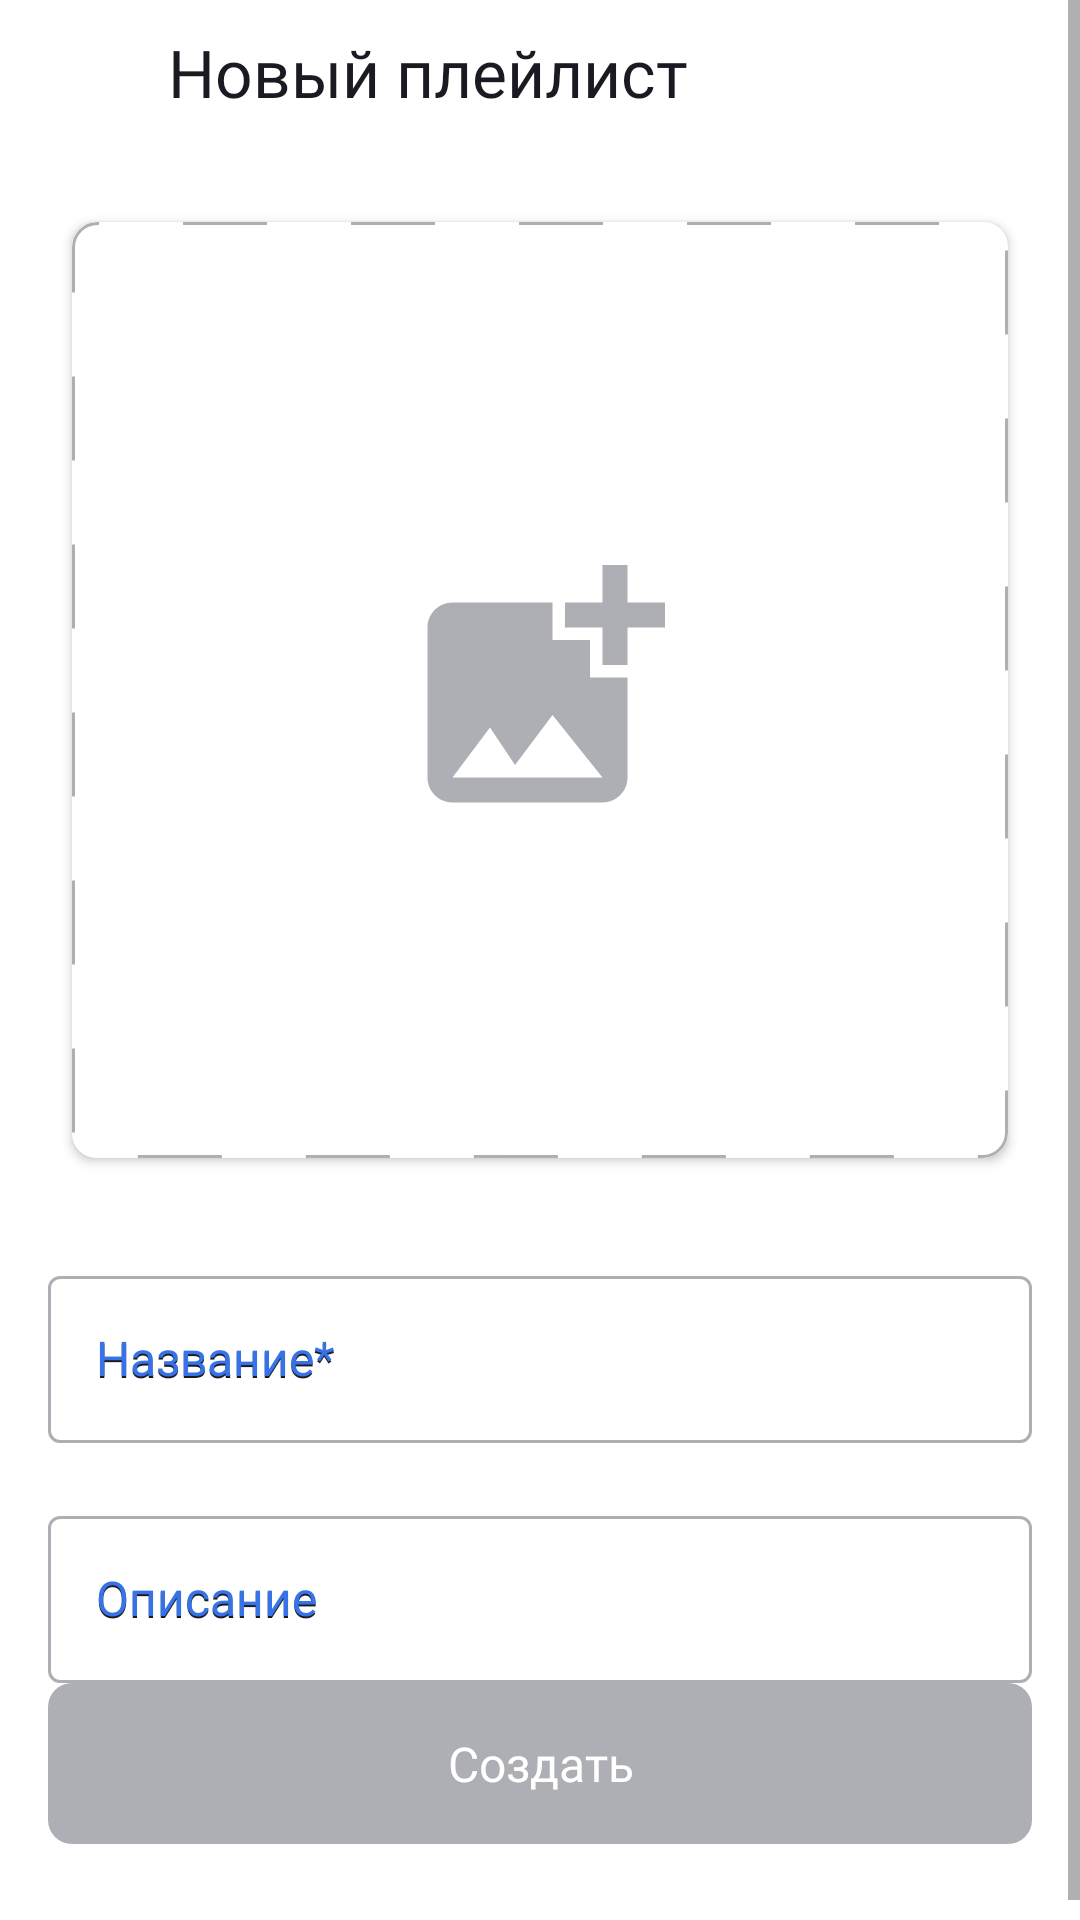

Named icons in this screenshot (1080w x 1920h) and their centers, (x=x, y=y):
add photo: (x=546, y=684)
